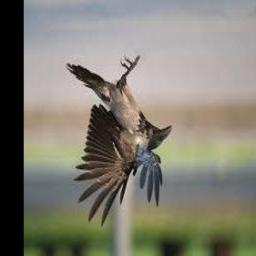Crow: (65, 56, 171, 227)
